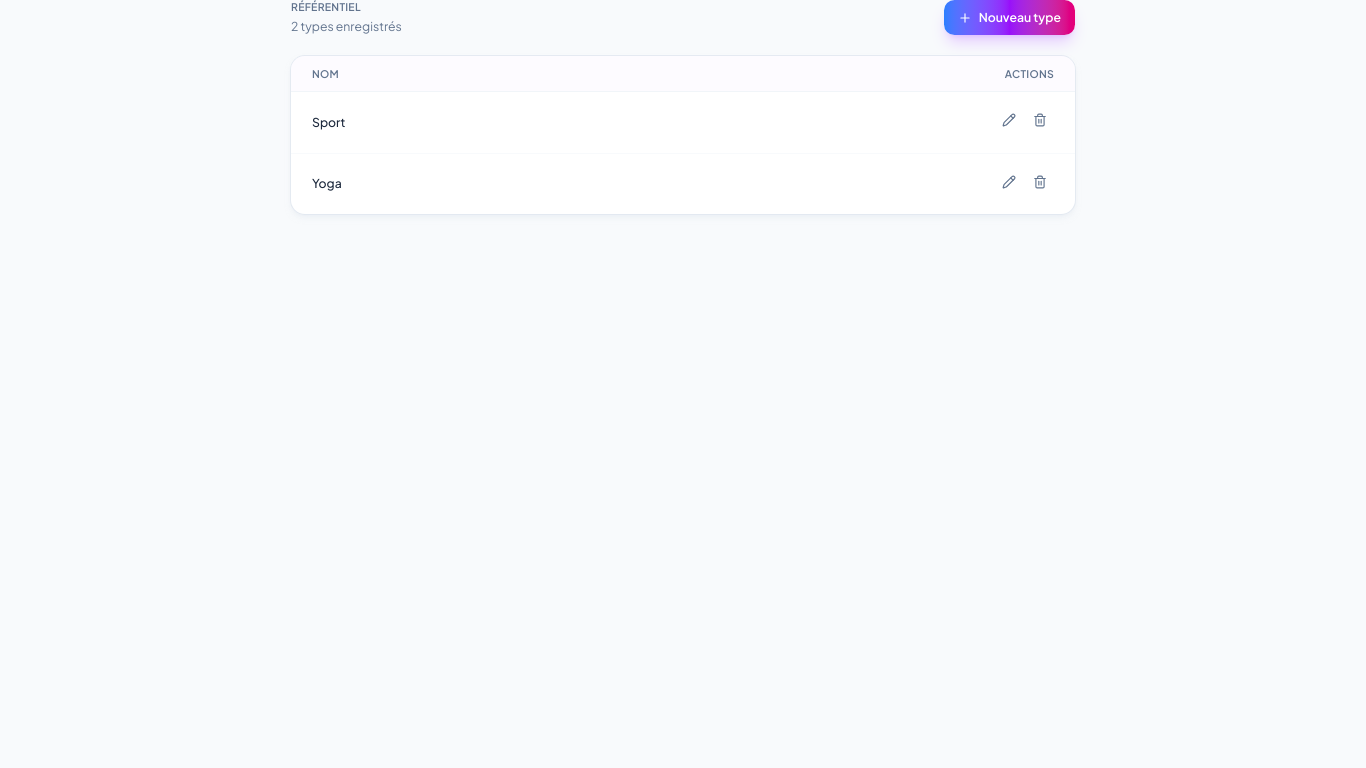
AdminActivityTypesPage › ouvre le formulaire de modification au clic sur Modifier
Click the button named "modifier" in the row of "Sport". click: (1008, 120)
box: [994,106,1022,134]
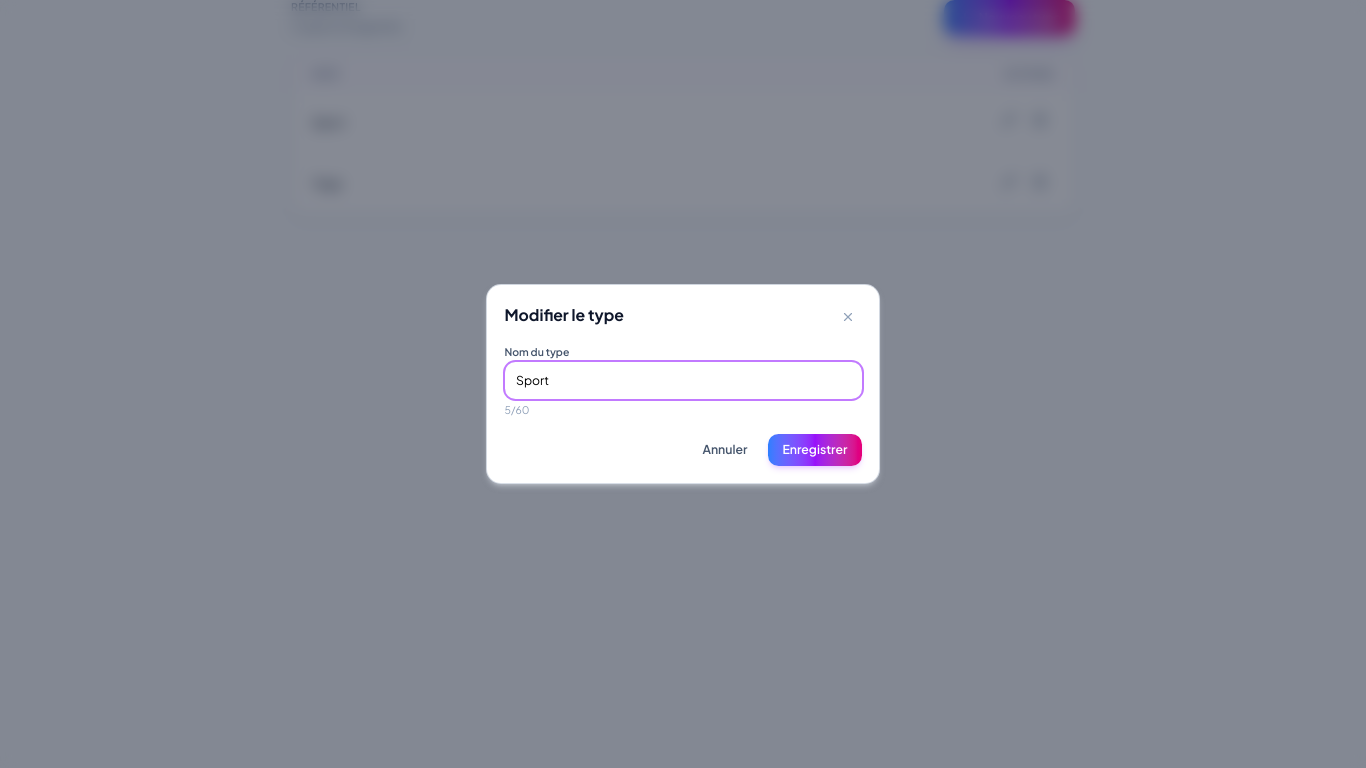
Expected: the dialog is shown
Expected: the heading "Modifier le type" is shown, [504,302,624,327]
